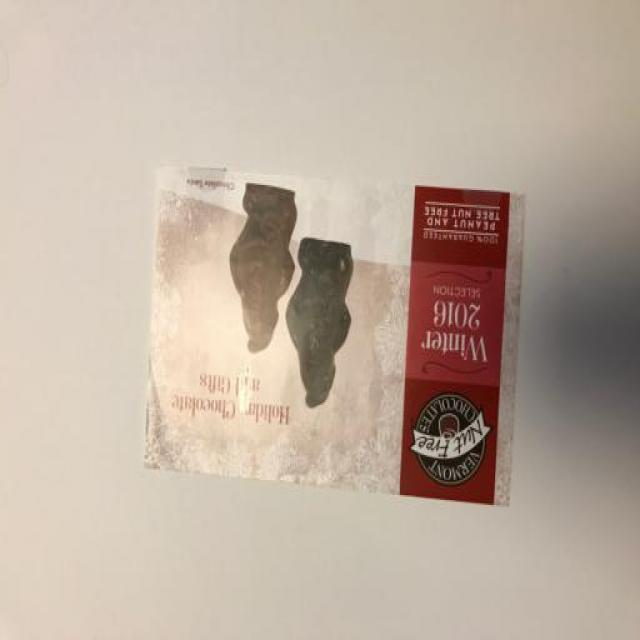paper: (134, 159, 582, 524)
